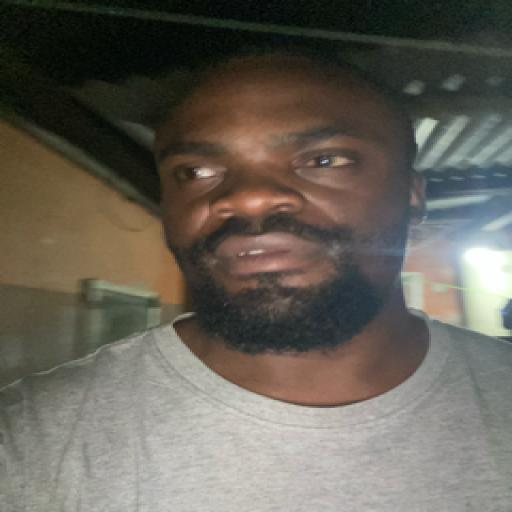JEANLUC: (143, 47, 437, 341)
